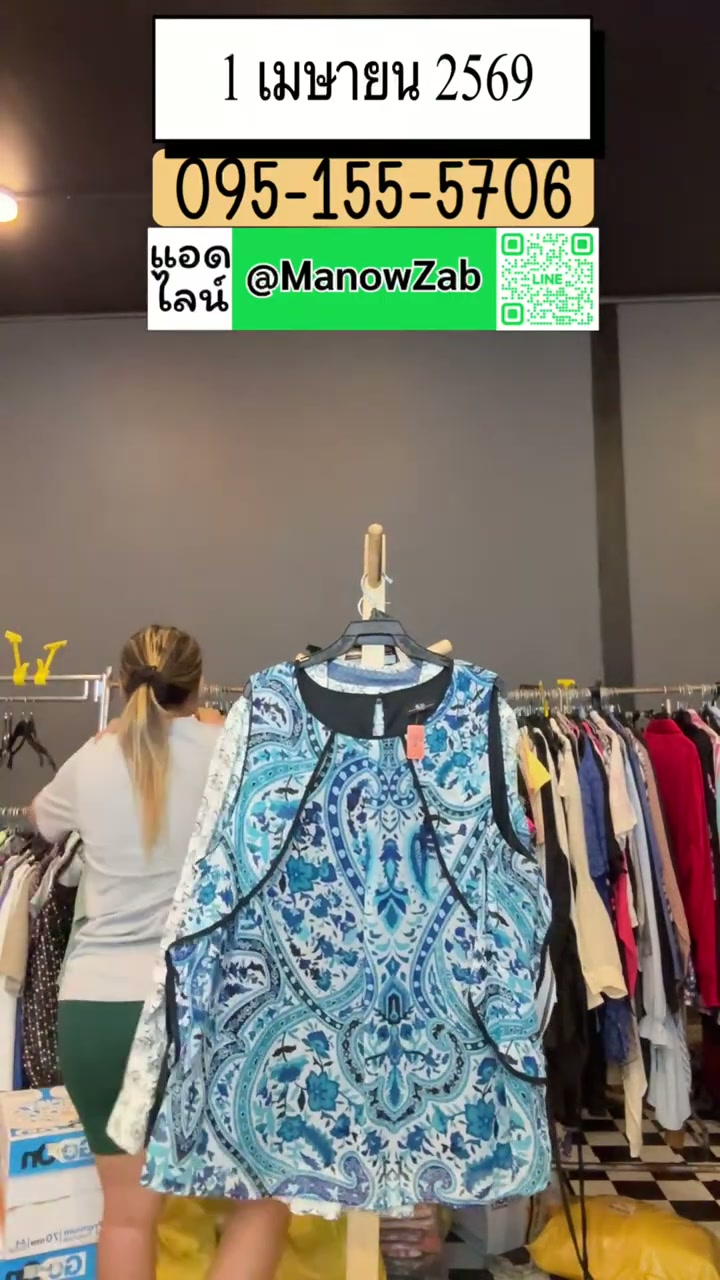display_shirt: (111, 644, 554, 1215)
